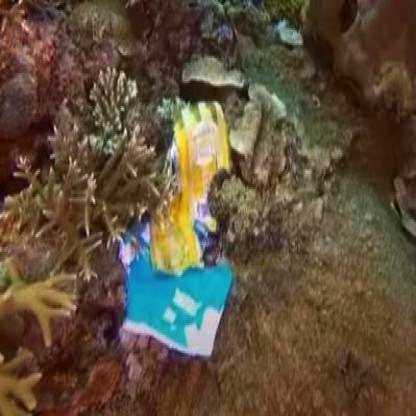plastic: (131, 75, 245, 353)
